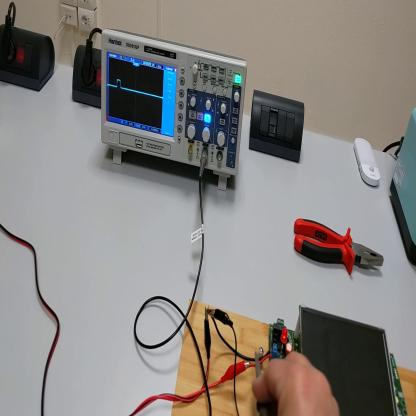hand: (254, 350, 341, 416)
low voltage board: (250, 305, 409, 416)
oscilloscope: (100, 28, 248, 197)
oscilloscope probe tip: (253, 354, 269, 416)
pliers: (295, 214, 385, 280)
socket: (2, 25, 57, 92), (72, 47, 102, 108)
welder station: (391, 101, 416, 267)
working area: (174, 298, 416, 413)
